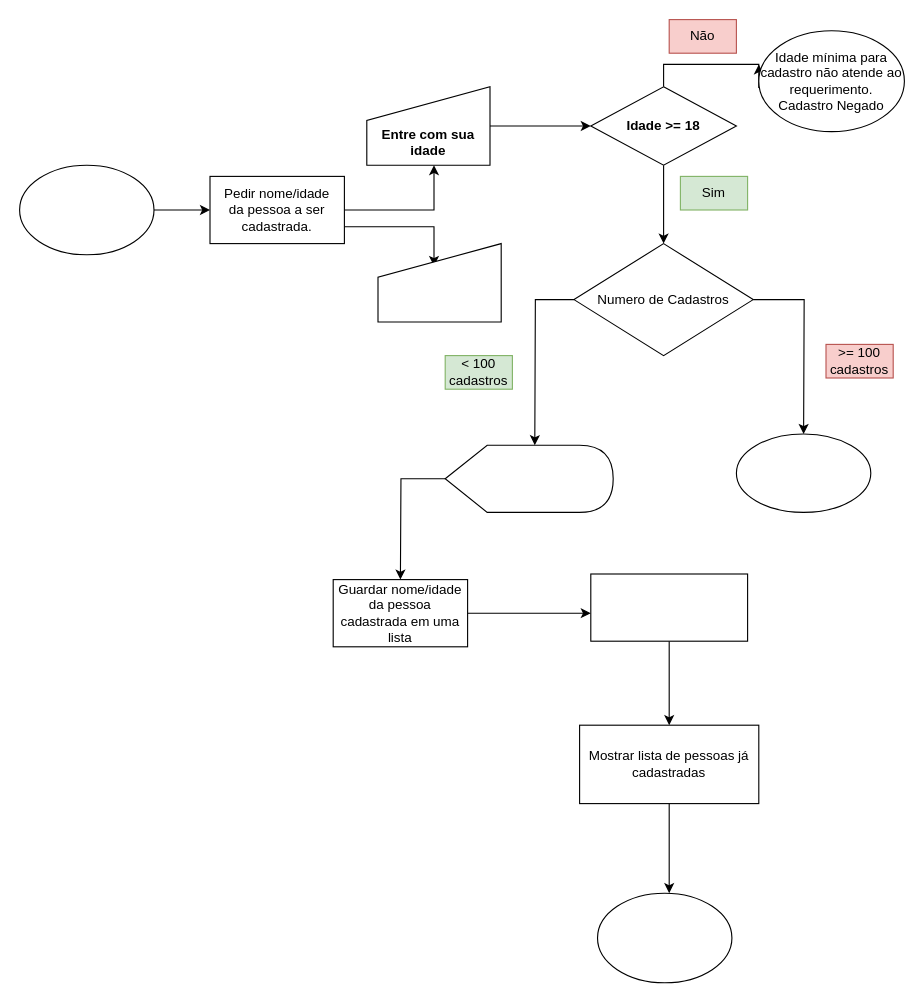
The diagram is 924 pixels wide and 1002 high, and some of its shapes have lost their labels. The shapes that lost their labels are listed below. From the top down, each one's centre as x and y in pixels, then its label:
At point 86,209: "INICIO".
At point 439,282: "Entre com seu nome".
At point 528,478: "Cadastro realizado com sucesso".
At point 803,472: "Quantidade de cadastros excedido. Cadastro Negado".
At point 669,607: "Pessoas_Cadastradas += 1".
At point 664,937: "FIM".
